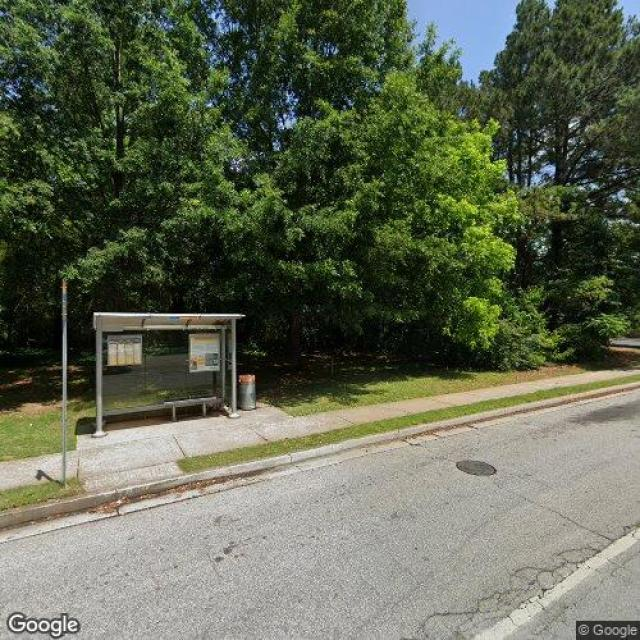seating: (162, 396, 219, 422)
shelter: (92, 313, 248, 437)
trash_can: (238, 374, 255, 410)
